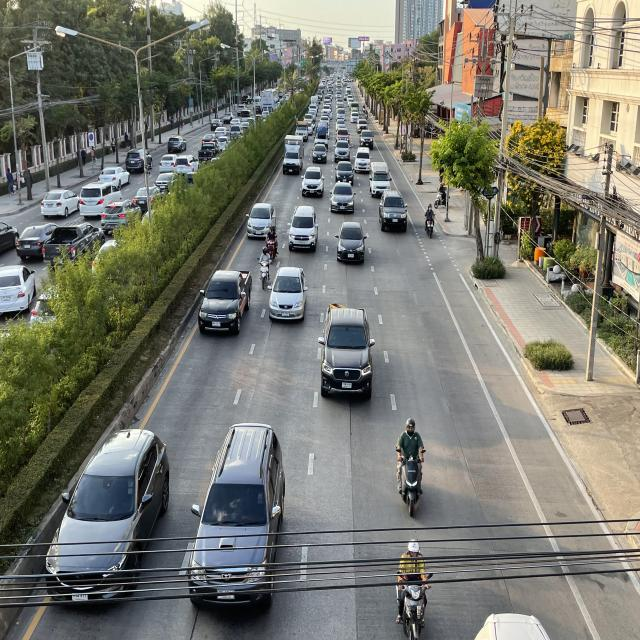bike: (389, 533, 438, 640), (393, 415, 429, 520), (258, 246, 270, 291), (266, 224, 280, 261), (423, 202, 436, 240)
car: (43, 423, 171, 607), (184, 416, 290, 611), (317, 301, 377, 401), (197, 266, 253, 336), (267, 265, 309, 323), (287, 204, 320, 252), (335, 222, 367, 264), (378, 190, 408, 233), (246, 202, 276, 239), (329, 182, 356, 215), (301, 167, 325, 199)
truck: (282, 134, 304, 176), (369, 161, 392, 198), (354, 146, 373, 174)
